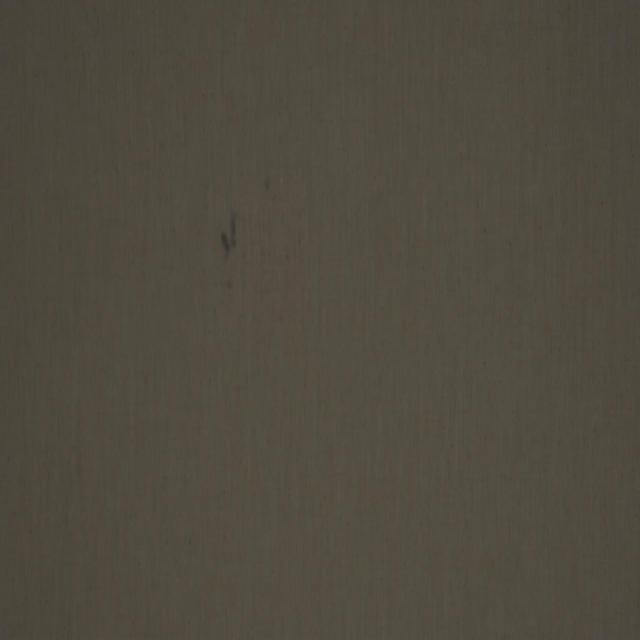dirty: (218, 213, 239, 260)
